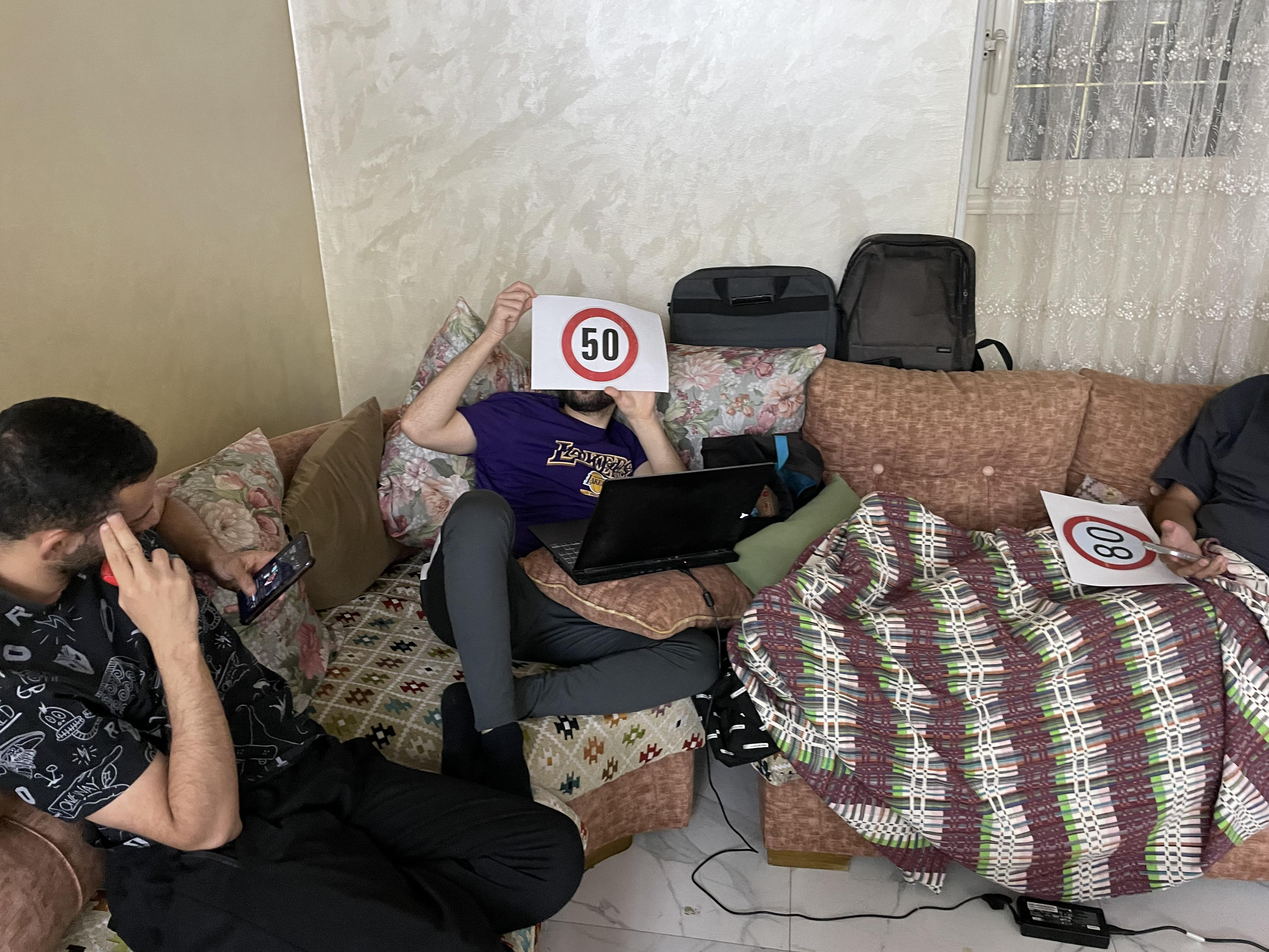50-Speed: (564, 306, 642, 376)
